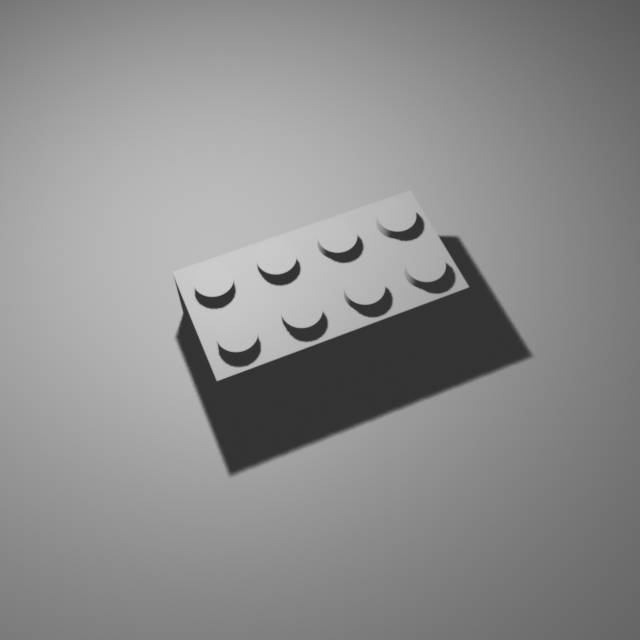lego_2x4: (170, 182, 471, 416)
